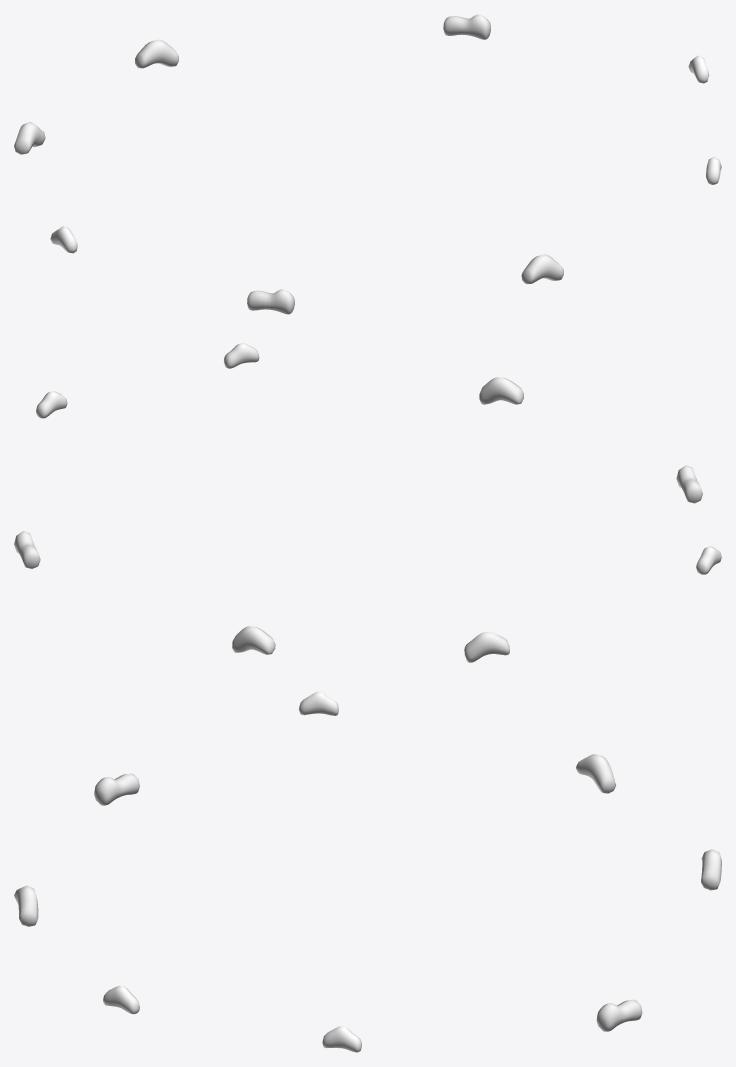
File: awan2.glb
The picture shows the model from 3 angles, top to bottom: view 1: azimuth 30°, elevation 25°; view 2: azimuth 150°, elevation 25°; view 3: azimuth 270°, elevation 25°; orthographic projection. The views are drawn at different scales.
Parts seen in each view (by area): view 1: Cube.007, Cube.016, Cube.006, Cube.009, Cube.011, Cube.008; view 2: Cube.011, Cube.009, Cube.006, Cube.016, Cube.007, Cube.014, Cube.010; view 3: Cube.007, Cube.016, Cube.011, Cube.009, Cube.006, Cube.008, Cube.010, Cube.014.
Boxes of the visible parts, left/top/right/bottom form: Cube.007: left=443, top=14, right=490, bottom=39; Cube.016: left=247, top=289, right=294, bottom=314; Cube.006: left=135, top=39, right=178, bottom=68; Cube.009: left=521, top=254, right=563, bottom=284; Cube.011: left=14, top=122, right=45, bottom=154; Cube.008: left=50, top=226, right=77, bottom=253; Cube.011: left=464, top=632, right=509, bottom=662; Cube.009: left=479, top=377, right=523, bottom=404; Cube.006: left=232, top=626, right=275, bottom=654; Cube.016: left=676, top=465, right=702, bottom=503; Cube.007: left=14, top=531, right=40, bottom=568; Cube.014: left=223, top=343, right=259, bottom=368; Cube.010: left=36, top=391, right=67, bottom=418; Cube.007: left=596, top=999, right=642, bottom=1031; Cube.016: left=94, top=773, right=139, bottom=805; Cube.011: left=576, top=754, right=616, bottom=793; Cube.009: left=14, top=885, right=38, bottom=926; Cube.006: left=701, top=849, right=721, bottom=890; Cube.008: left=298, top=691, right=338, bottom=715; Cube.010: left=322, top=1026, right=361, bottom=1052; Cube.014: left=103, top=985, right=139, bottom=1014.
Bounding box in the file's own units: 456 × 33.4 × 391.
1 material, 1 textured.
